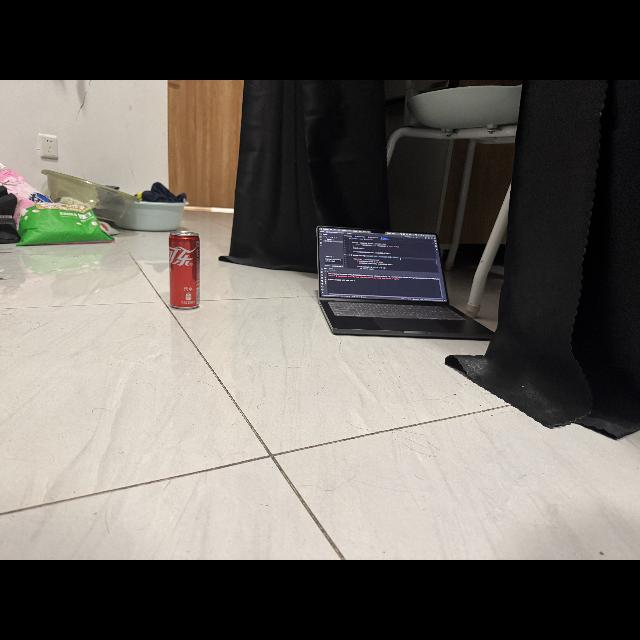Cola: (165, 227, 207, 315)
